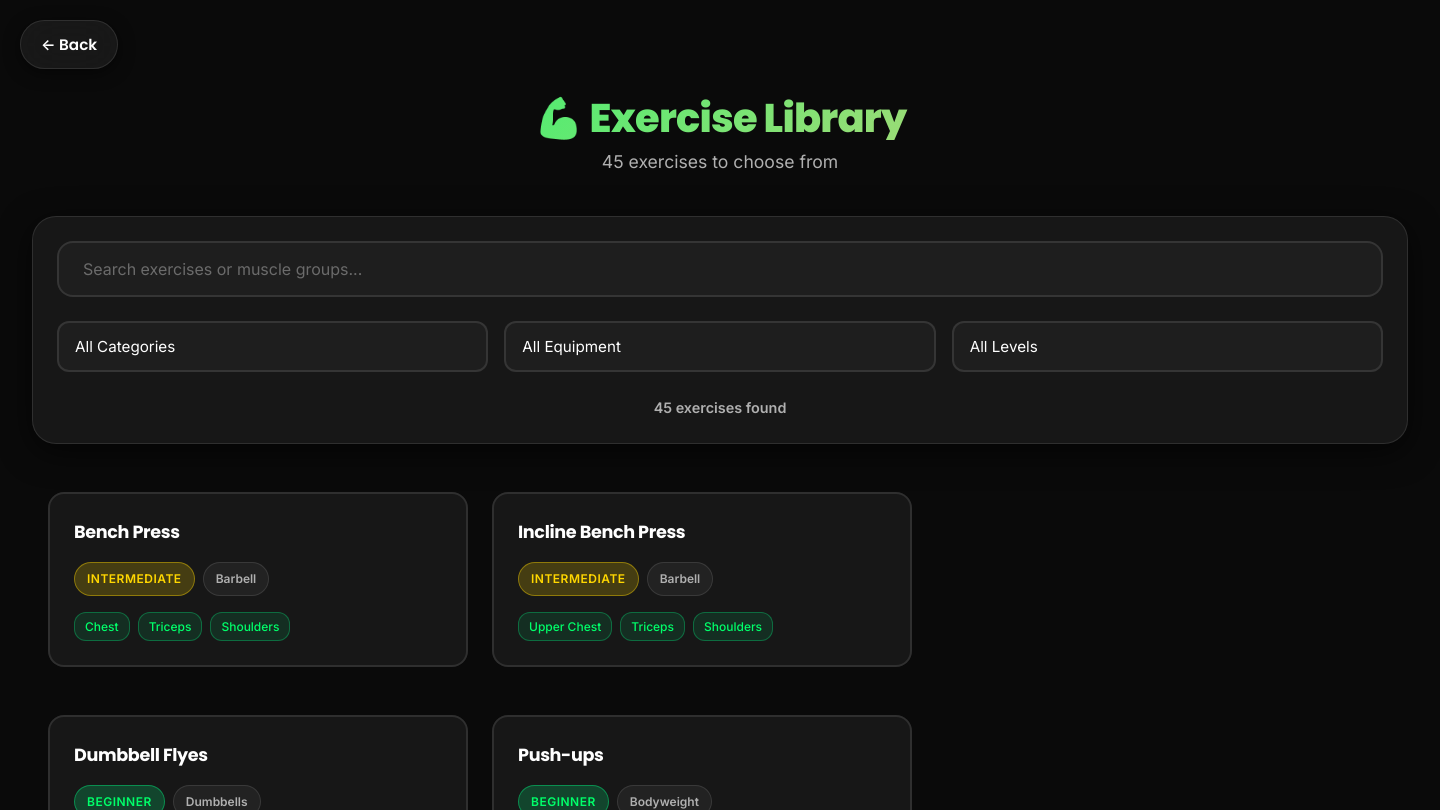
ExerciseLibrary › Filter Functionality › should filter by category
Select "Cardio" in the 1st dropdown at coordinates (273, 347), box [57,321,488,372]
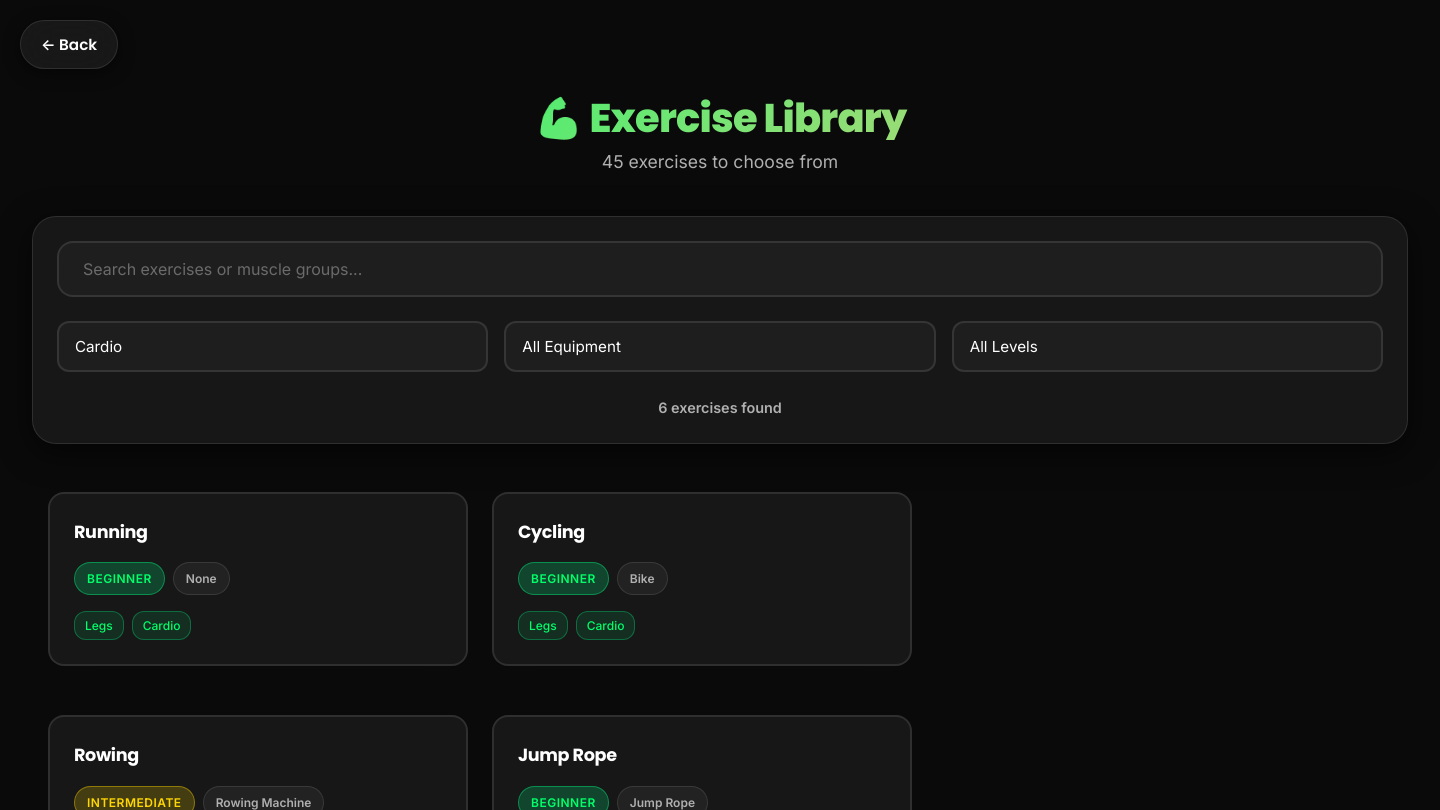
expect the heading "Running" is shown: met, box [74,520,148,544]
expect the heading "Cycling" is shown: met, box [518,520,585,544]
expect the heading "Bench Press" is gone: met
